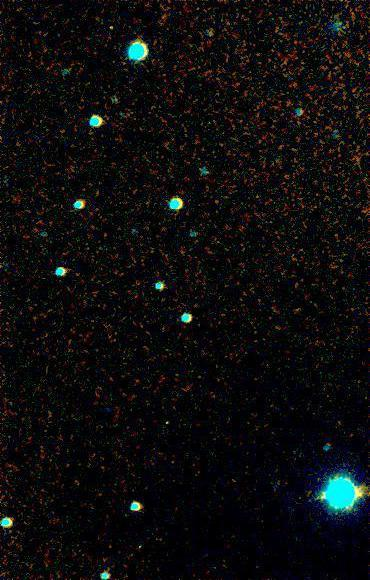star: (307, 483, 337, 513)
